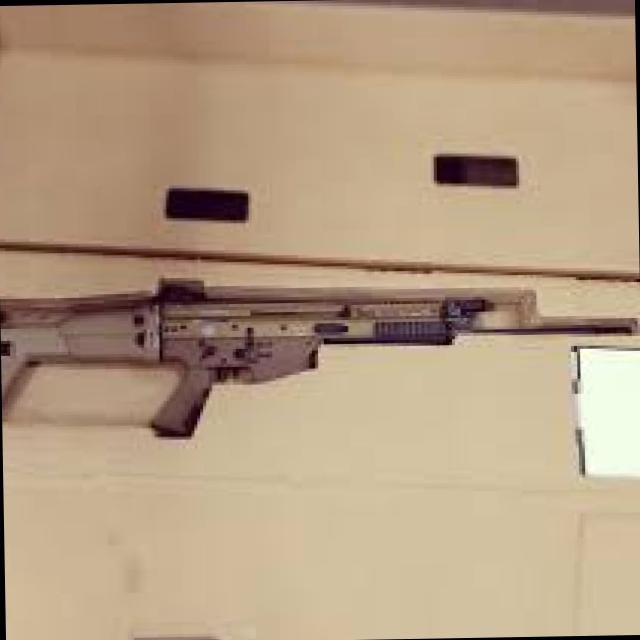Gun: (0, 264, 587, 451)
